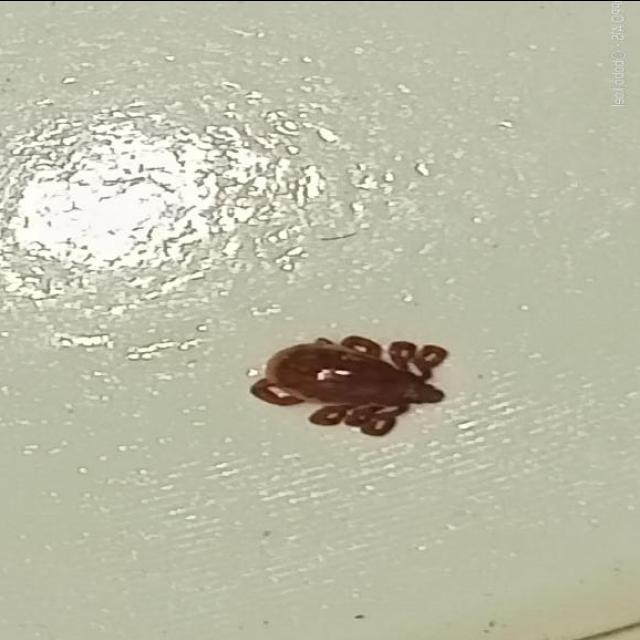Rhipicephalus Sanguineus-M: (252, 334, 449, 436)
